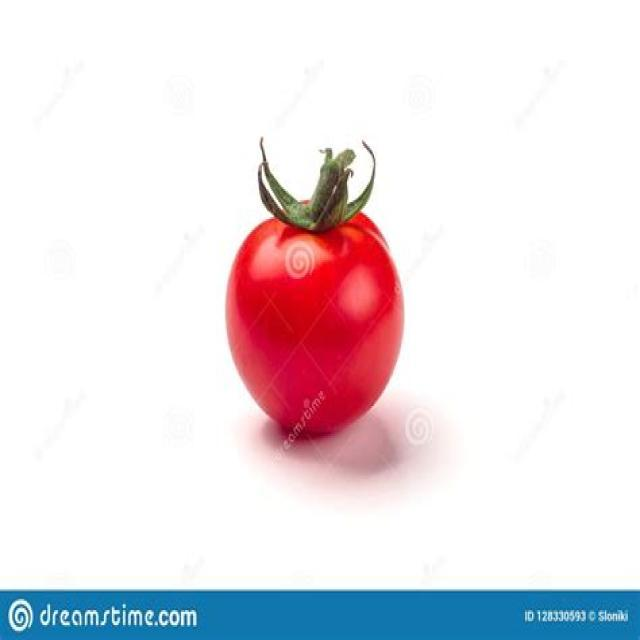Tomato: (224, 209, 407, 448)
